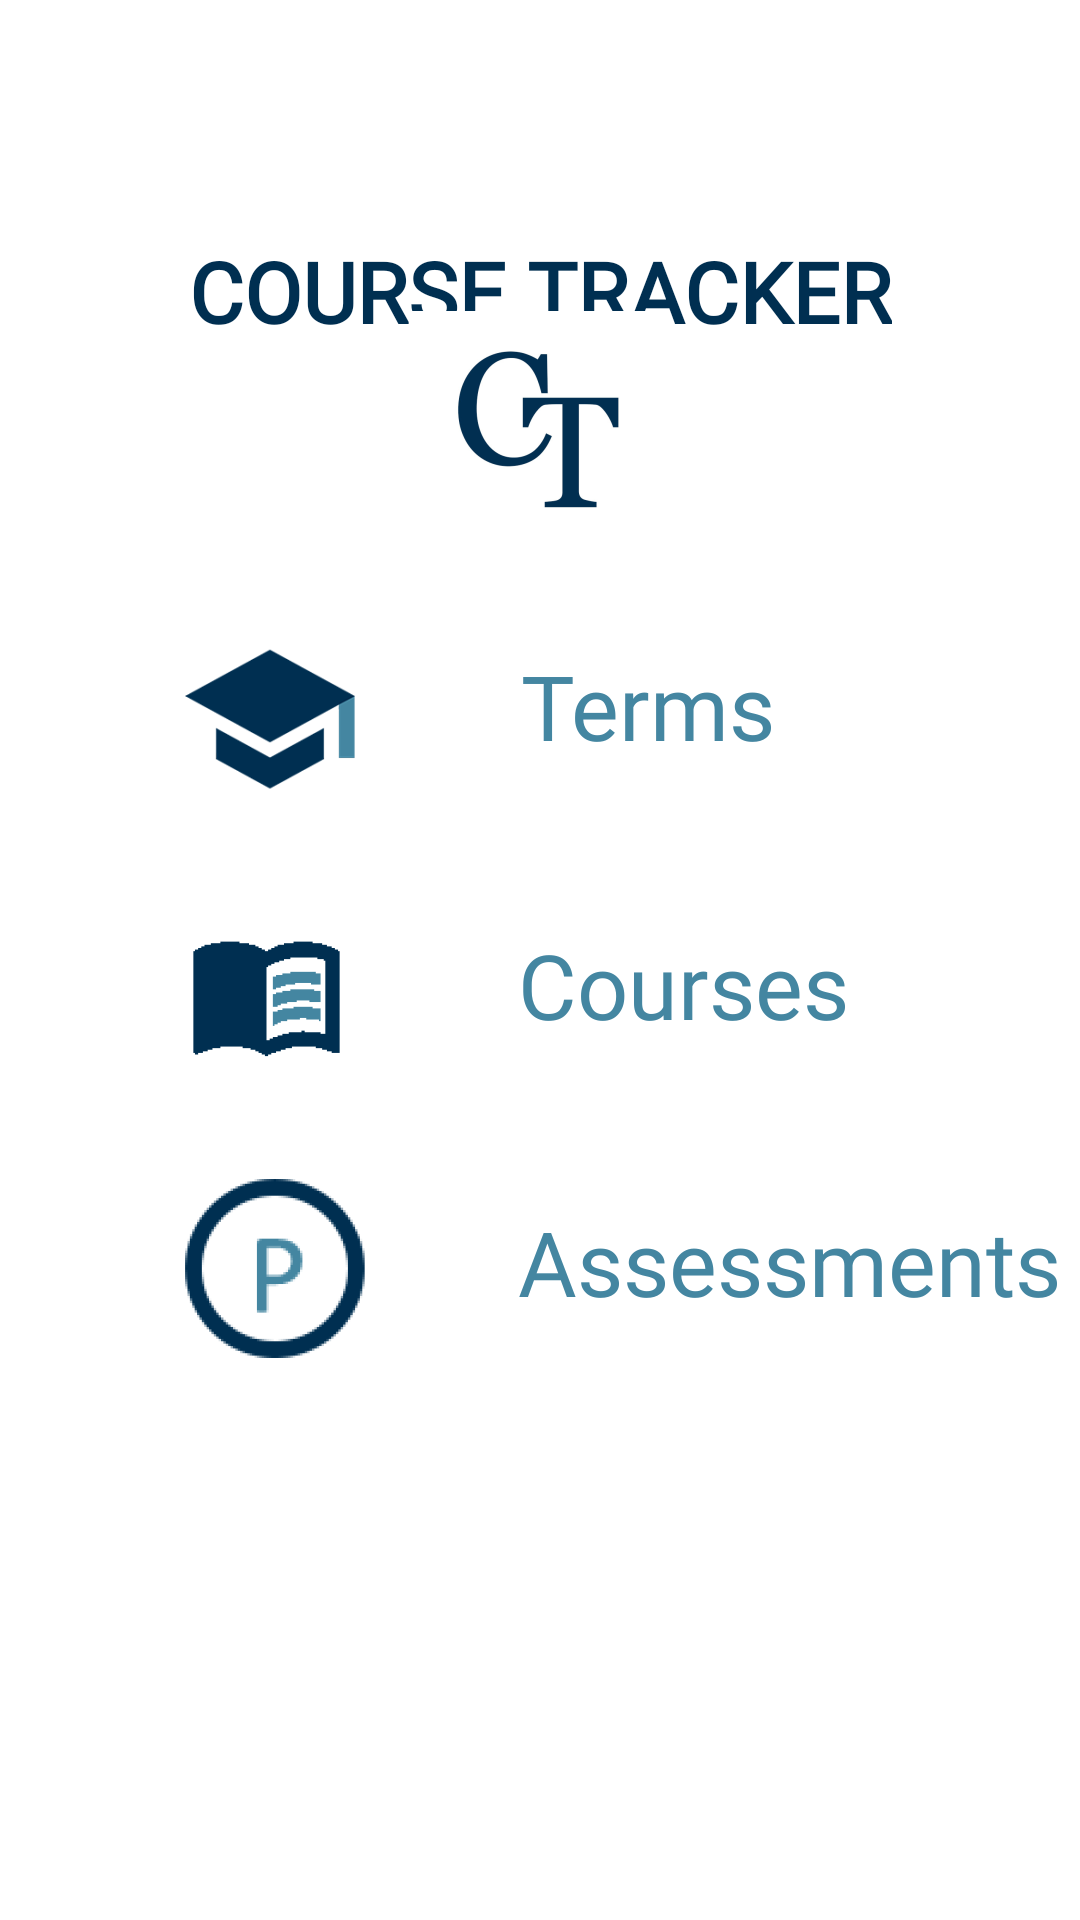

Where icons sit on this 1080×1920 app screen, as BBox(x1, y1, x2, y2):
book: BBox(193, 941, 340, 1057)
hat: BBox(185, 649, 355, 789)
